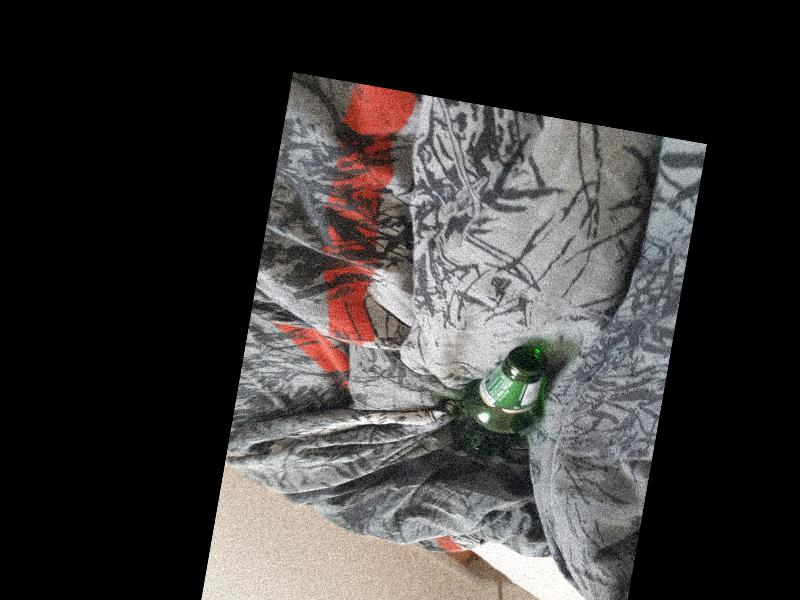Beer: (448, 335, 553, 466)
